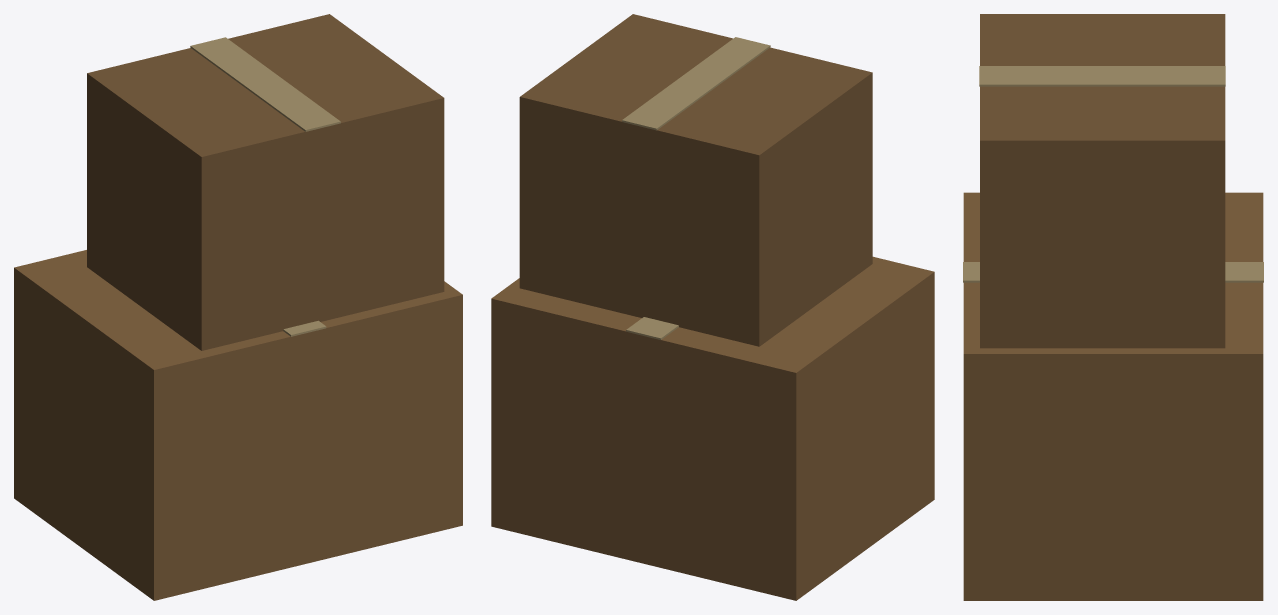
File: boxes_2.glb
3 renders of one model, left to right at view 1: azimuth 30°, elevation 25°; view 2: azimuth 150°, elevation 25°; view 3: azimuth 270°, elevation 25°, orthographic. The views are drawn at different scales.
Parts seen in each view (by area): view 1: boxes_2; view 2: boxes_2; view 3: boxes_2.
Boxes of the visible parts, x1=… form: boxes_2: x1=14, y1=14, x2=462, y2=600; boxes_2: x1=491, y1=14, x2=934, y2=600; boxes_2: x1=963, y1=14, x2=1263, y2=600.
Size of the model in its own units: 0.7 by 0.924 by 0.552.
